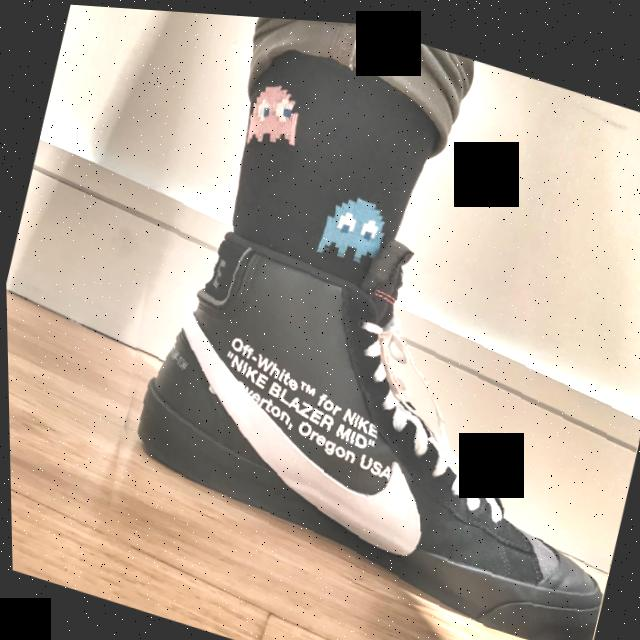shoe: (82, 185, 640, 640)
